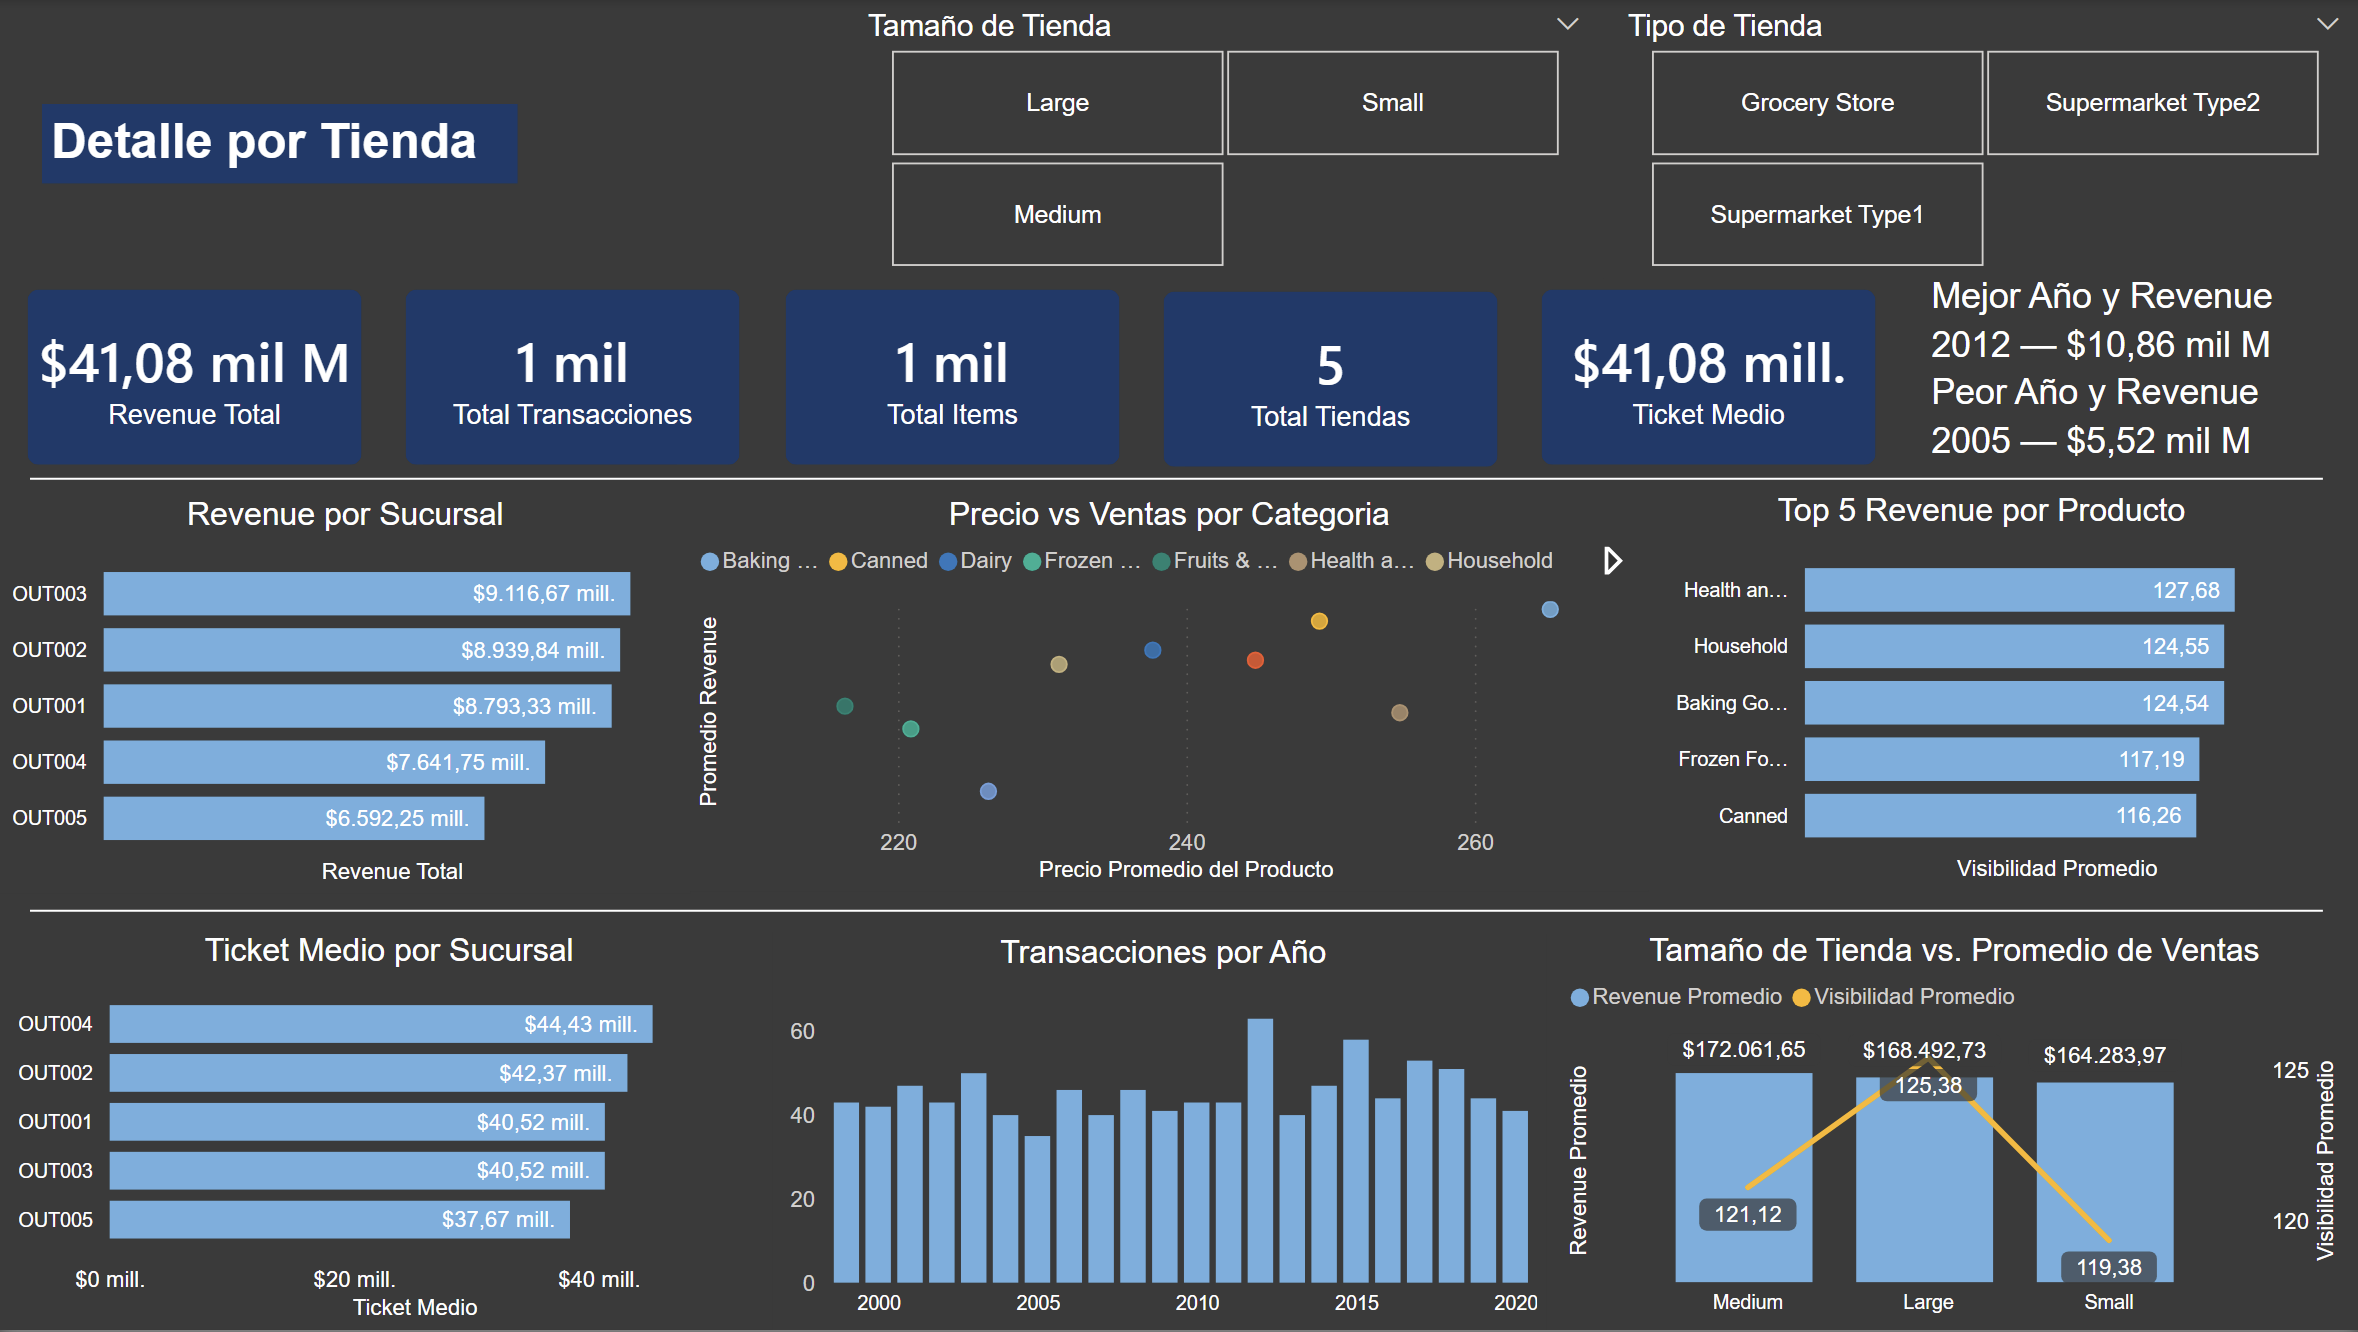

The page's visual inventory and layout, read from the dashboard file:
{"tool":"powerbi","page":{"name":"Detalle por Tienda","canvas":[1280,720],"ordinal":1},"visuals":[{"type":"textbox","box":[25,56.7,257.6,43.1],"z":0},{"type":"clusteredBarChart","title":"Revenue por Sucursal","fields":{"Category":["medium_sales_dataset.Outlet_ID"],"Y":["_Medidas.Revenue Total"]},"box":[2.2,269,374,214.8],"z":1000},{"type":"barChart","title":"Ticket Medio por Sucursal","fields":{"Category":["medium_sales_dataset.Outlet_ID"],"Y":["_Medidas.Ticket Medio"]},"box":[5.5,504.8,415,214.8],"z":2000},{"type":"shape","box":[18.7,230.6,1241.6,57.1],"z":3000},{"type":"shape","box":[18.7,465,1241.6,57.1],"z":4000},{"type":"slicer","fields":{"Values":["medium_sales_dataset.Outlet_Type"]},"box":[870.3,0,410.9,151.1],"z":5000},{"type":"cardVisual","fields":{"Data":["_Medidas.Revenue Total"]},"box":[0,140,215,129.1],"z":6000},{"type":"cardVisual","fields":{"Data":["_Medidas.Total Transacciones"]},"box":[205,140,215,129.1],"z":7000},{"type":"cardVisual","fields":{"Data":["_Medidas.Total Tiendas"]},"box":[615,140.6,215,129.1],"z":8000},{"type":"cardVisual","fields":{"Data":["_Medidas.Total Items"]},"box":[410,140,215,129.1],"z":9000},{"type":"cardVisual","fields":{"Data":["_Medidas.Ticket Medio"]},"box":[820,140,215,129.4],"z":10000},{"type":"slicer","fields":{"Values":["medium_sales_dataset.Outlet_Size"]},"box":[459.3,0,410.9,151.1],"z":11000},{"type":"multiRowCard","title":"Mejor Año y Revenue","fields":{"Values":["_Medidas.Mejor Ano & Revenue"]},"box":[1042.3,149.4,218.1,56.7],"z":12000},{"type":"multiRowCard","title":"Peor Año y Revenue","fields":{"Values":["_Medidas.Peor Ano y Revenue"]},"box":[1042.3,201.7,218.1,56],"z":13000},{"type":"scatterChart","title":"Precio vs Ventas por Categoria","fields":{"Y":["Avg(medium_sales_dataset.Item_Outlet_Sales)"],"X":["medium_sales_dataset.Item_MRP2"],"Series":["medium_sales_dataset.Item_Type"]},"box":[376.1,269,519,214],"z":14000},{"type":"clusteredBarChart","title":"Top 5 Revenue por Producto","fields":{"Category":["medium_sales_dataset.Item_Type"],"Y":["_Medidas.Visibilidad Promedio"]},"box":[892.6,266.6,365.6,215.6],"z":15000},{"type":"clusteredColumnChart","title":"Transacciones por Año","fields":{"Category":["medium_sales_dataset.Outlet_Establishment_Year"],"Y":["_Medidas.Total Transacciones"]},"box":[425,505.2,415,214.8],"z":16000},{"type":"lineStackedColumnComboChart","title":"Tamaño de Tienda vs. Promedio de Ventas","fields":{"Category":["medium_sales_dataset.Outlet_Size"],"Y":["Avg(medium_sales_dataset.Item_Outlet_Sales)"],"Y2":["Avg(medium_sales_dataset.Item_Visibility)"]},"box":[846.7,505.1,427,215.6],"z":17000}]}

Visuals, with their boxes in screenshot pixels (x1, y1, x2, y2), scaled from the page's 1280x720 canvas onto the 2358x1332 screenshot:
textbox: l=46, t=105, r=521, b=185
"Revenue por Sucursal" clusteredBarChart: l=4, t=498, r=693, b=895
"Ticket Medio por Sucursal" barChart: l=10, t=934, r=775, b=1331
shape: l=34, t=427, r=2322, b=532
shape: l=34, t=860, r=2322, b=966
slicer - medium_sales_dataset.Outlet_Type: l=1603, t=0, r=2357, b=280
cardVisual - _Medidas.Revenue Total: l=0, t=259, r=396, b=498
cardVisual - _Medidas.Total Transacciones: l=378, t=259, r=774, b=498
cardVisual - _Medidas.Total Tiendas: l=1133, t=260, r=1529, b=499
cardVisual - _Medidas.Total Items: l=755, t=259, r=1151, b=498
cardVisual - _Medidas.Ticket Medio: l=1511, t=259, r=1907, b=498
slicer - medium_sales_dataset.Outlet_Size: l=846, t=0, r=1603, b=280
"Mejor Año y Revenue" multiRowCard: l=1920, t=276, r=2322, b=381
"Peor Año y Revenue" multiRowCard: l=1920, t=373, r=2322, b=477
"Precio vs Ventas por Categoria" scatterChart: l=693, t=498, r=1649, b=894
"Top 5 Revenue por Producto" clusteredBarChart: l=1644, t=493, r=2318, b=892
"Transacciones por Año" clusteredColumnChart: l=783, t=935, r=1547, b=1331
"Tamaño de Tienda vs. Promedio de Ventas" lineStackedColumnComboChart: l=1560, t=934, r=2346, b=1331
